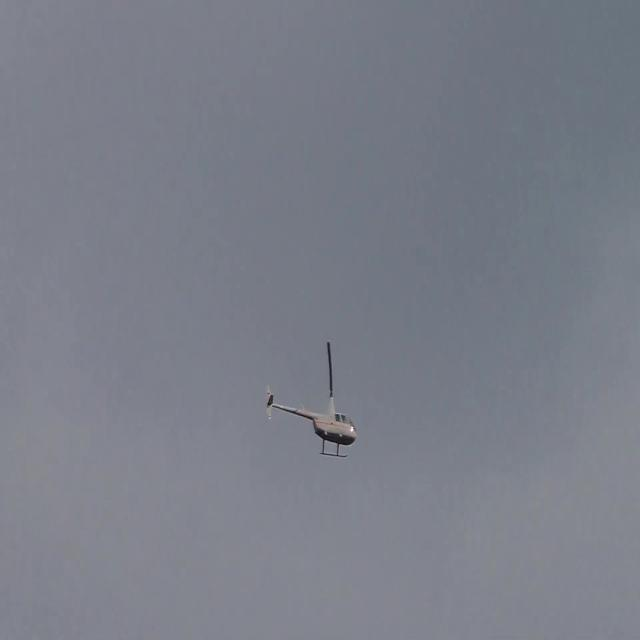CIV_HELO: (266, 382, 358, 459)
